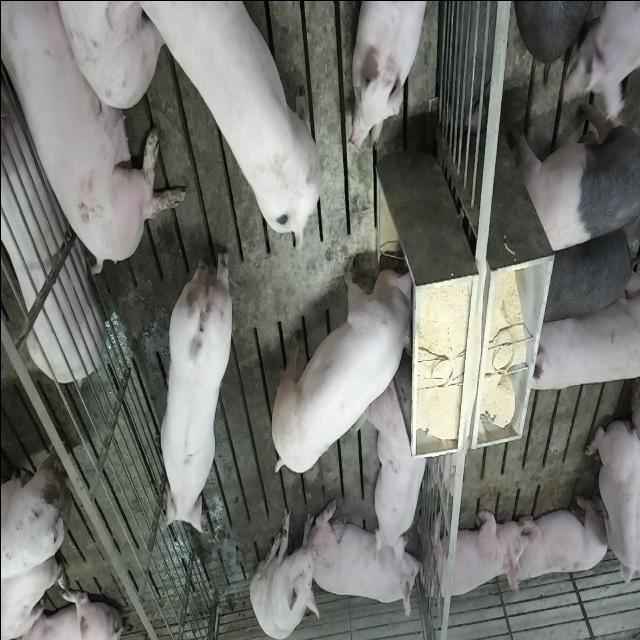Feeding: (273, 248, 421, 476)
Lateral_lying: (3, 4, 186, 278), (0, 63, 104, 385)
Sitting: (248, 503, 320, 638)
Standing: (127, 0, 325, 246), (153, 243, 231, 536), (514, 91, 639, 256), (528, 284, 638, 388), (536, 223, 638, 326)
Sternal_lying: (313, 504, 426, 618), (349, 0, 433, 153), (366, 376, 430, 560), (508, 491, 610, 589), (584, 414, 638, 596), (425, 504, 524, 602)
